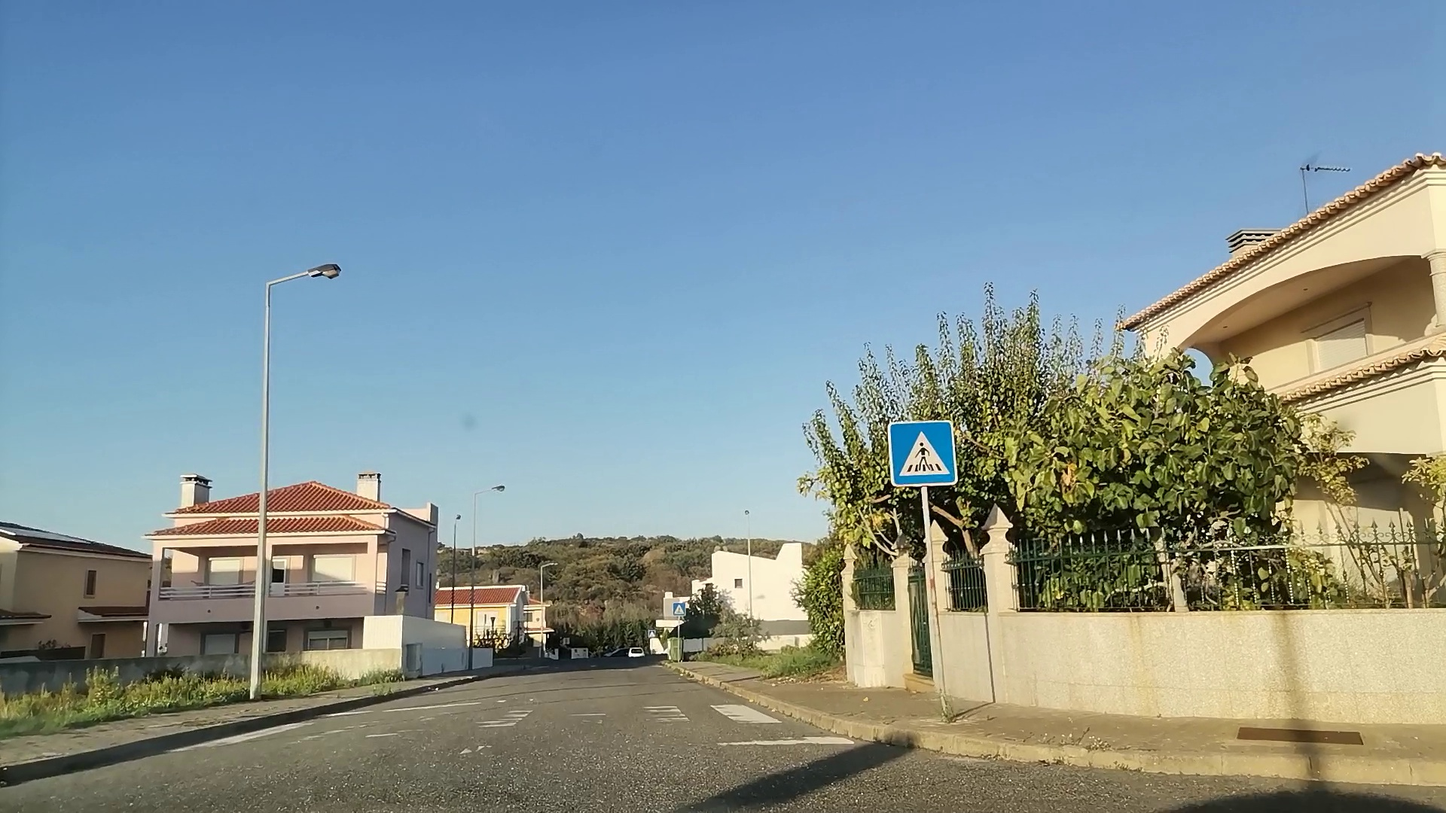Stairs: (190, 703, 781, 752)
